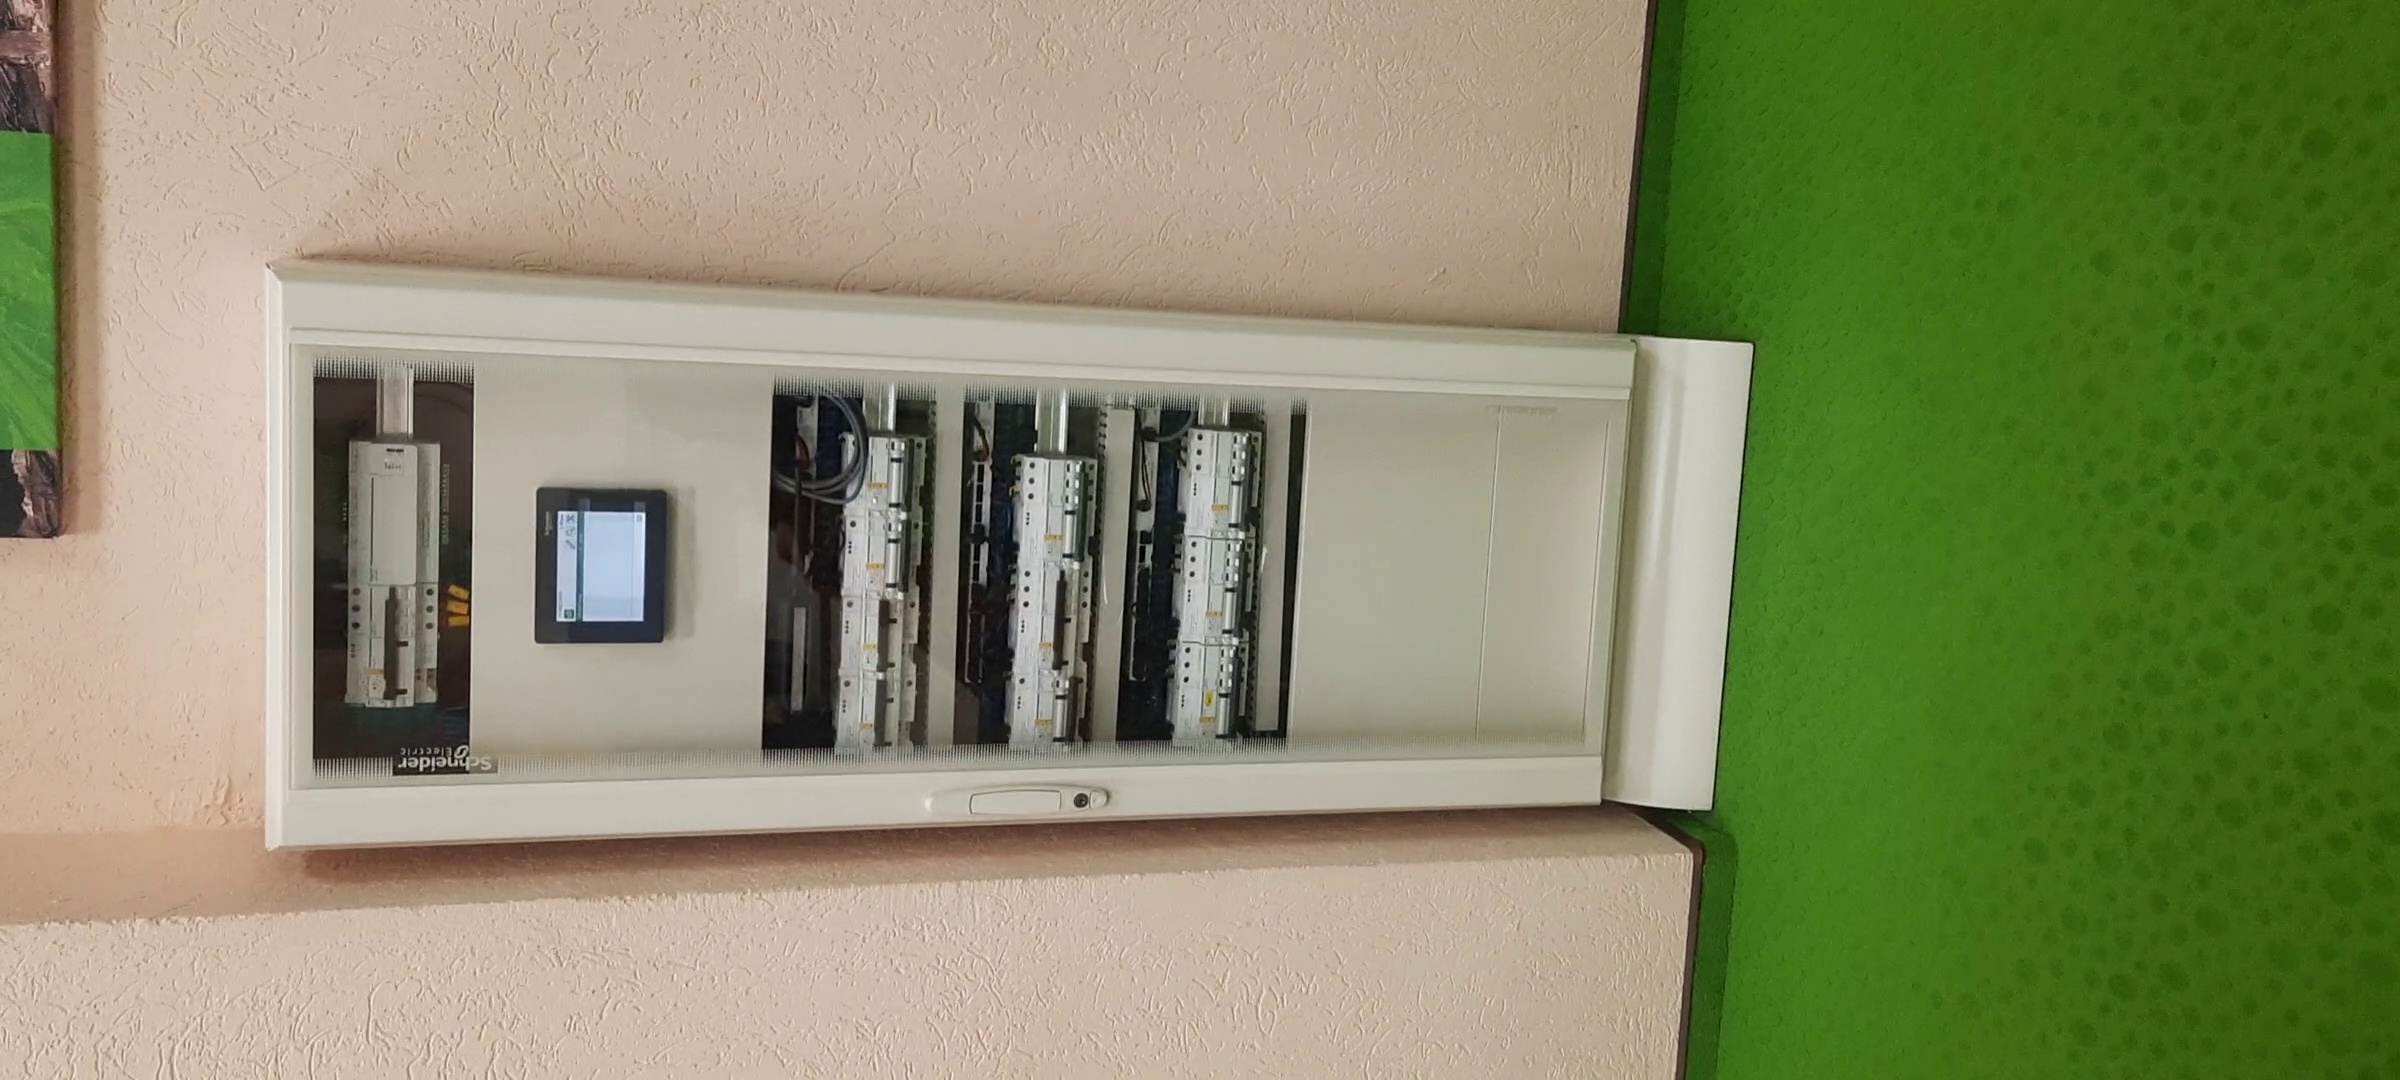smart_stand: (259, 262, 1737, 863)
